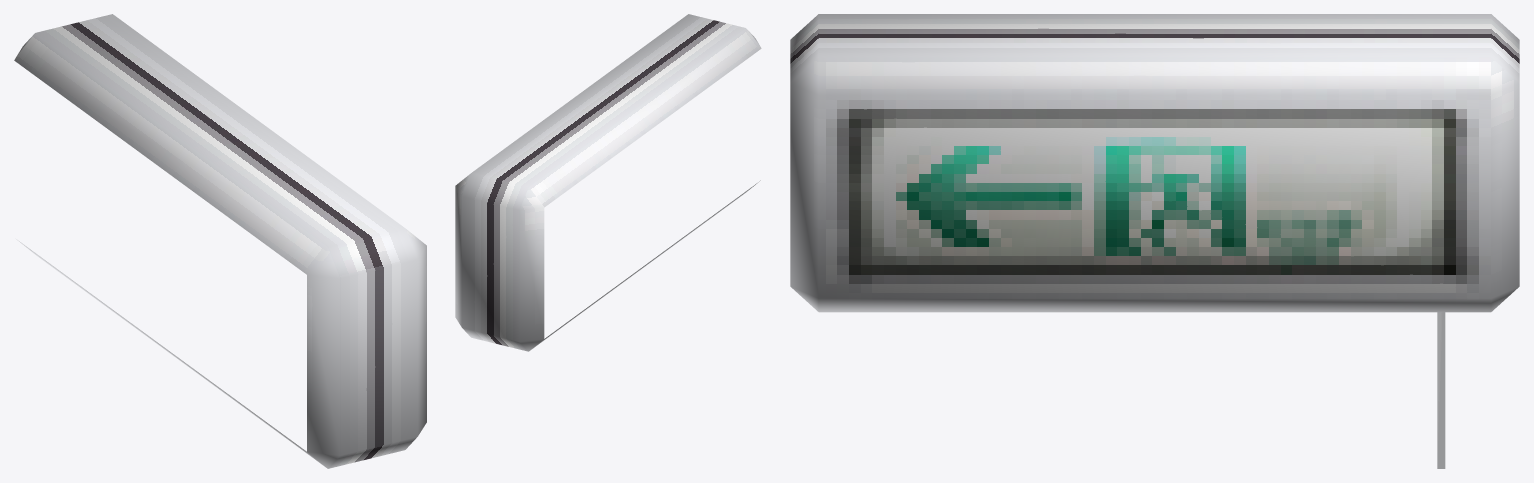
Rendered from a_SCsign02.glb.
The picture shows the model from 3 angles, left to right: view 1: azimuth 30°, elevation 25°; view 2: azimuth 150°, elevation 25°; view 3: azimuth 270°, elevation 25°; orthographic projection. The views are drawn at different scales.
Visible parts, largest first — view 1: a_SCsign02; view 2: a_SCsign02; view 3: a_SCsign02.
Part boxes in pixels (bbox=[...]): a_SCsign02: bbox=[14, 14, 426, 468]; a_SCsign02: bbox=[455, 14, 761, 351]; a_SCsign02: bbox=[790, 14, 1519, 468].
Bounding box in the file's own units: 0.1436 × 0.4515 × 0.658.
Materials: 1 (1 with a texture image).
